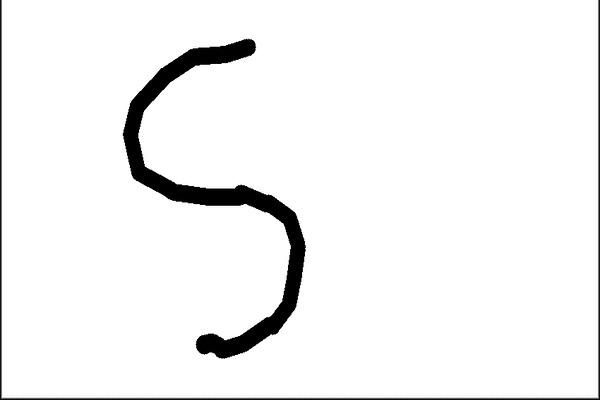S: (117, 33, 313, 362)
